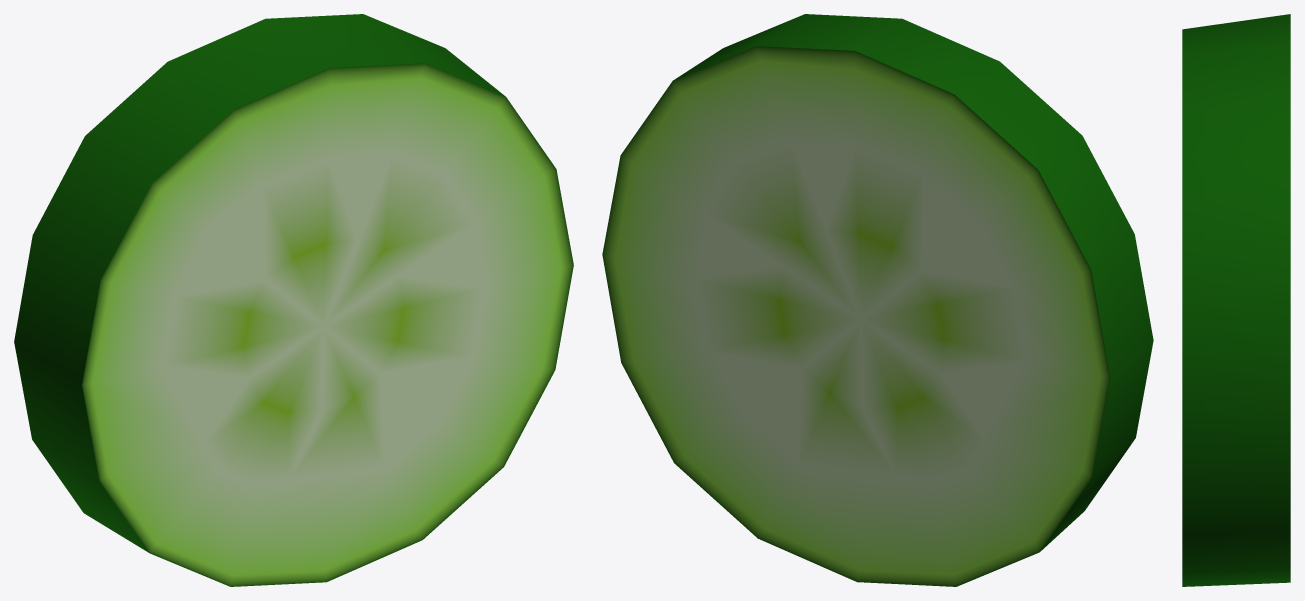
File: Cucumber_Slice_07.fbx
3 renders of one model, left to right at view 1: azimuth 30°, elevation 25°; view 2: azimuth 150°, elevation 25°; view 3: azimuth 270°, elevation 25°, orthographic. The views are drawn at different scales.
Parts seen in each view (by area): view 1: Cucumber_Slice_07; view 2: Cucumber_Slice_07; view 3: Cucumber_Slice_07.
Boxes of the visible parts, x1,y1,x2,y2 form: Cucumber_Slice_07: [14, 14, 573, 586]; Cucumber_Slice_07: [602, 14, 1153, 586]; Cucumber_Slice_07: [1182, 14, 1290, 586].
Size of the model in its own units: 4.53 by 4.51 by 0.8606.
